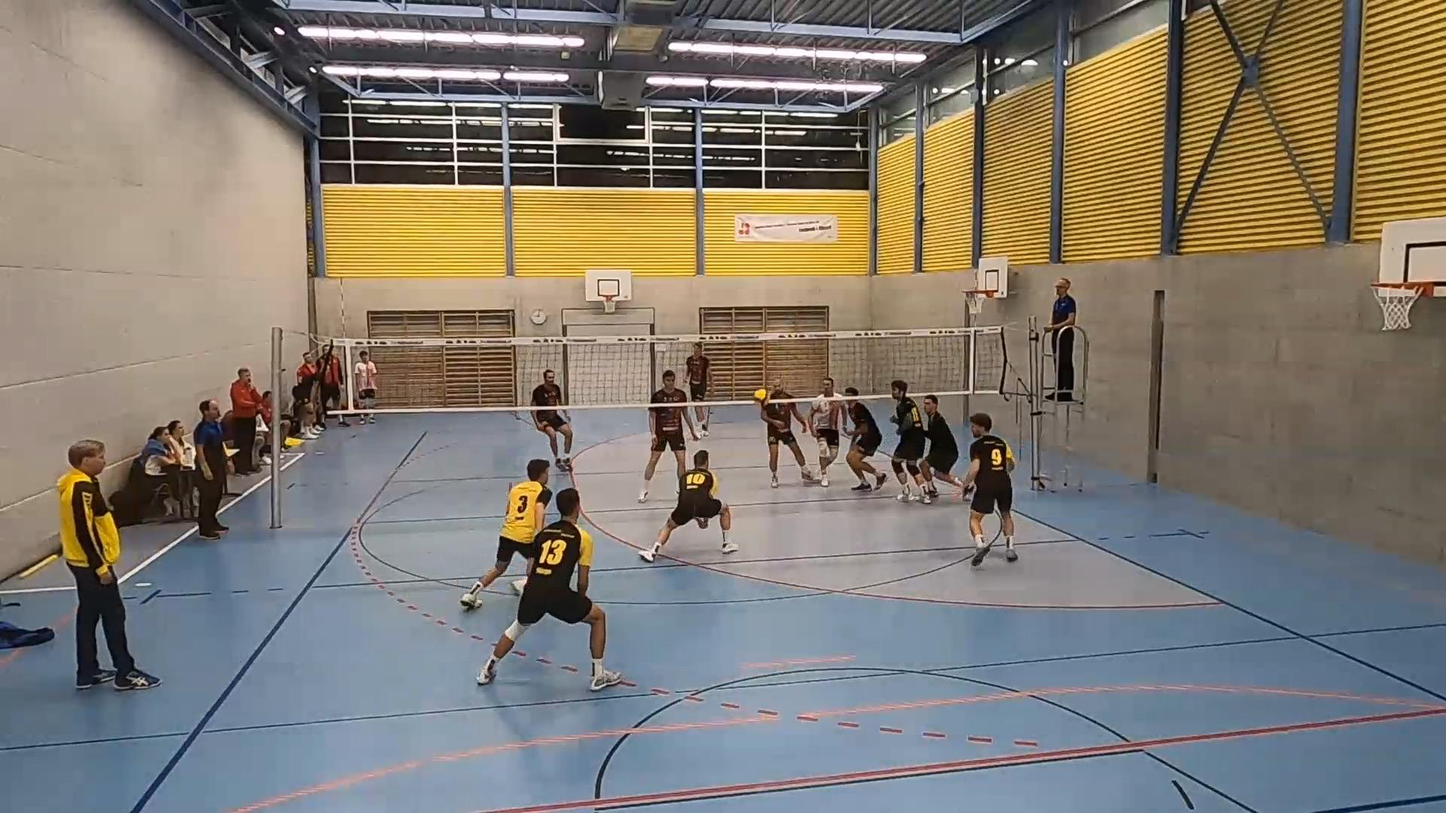difesa: (638, 456, 744, 562)
